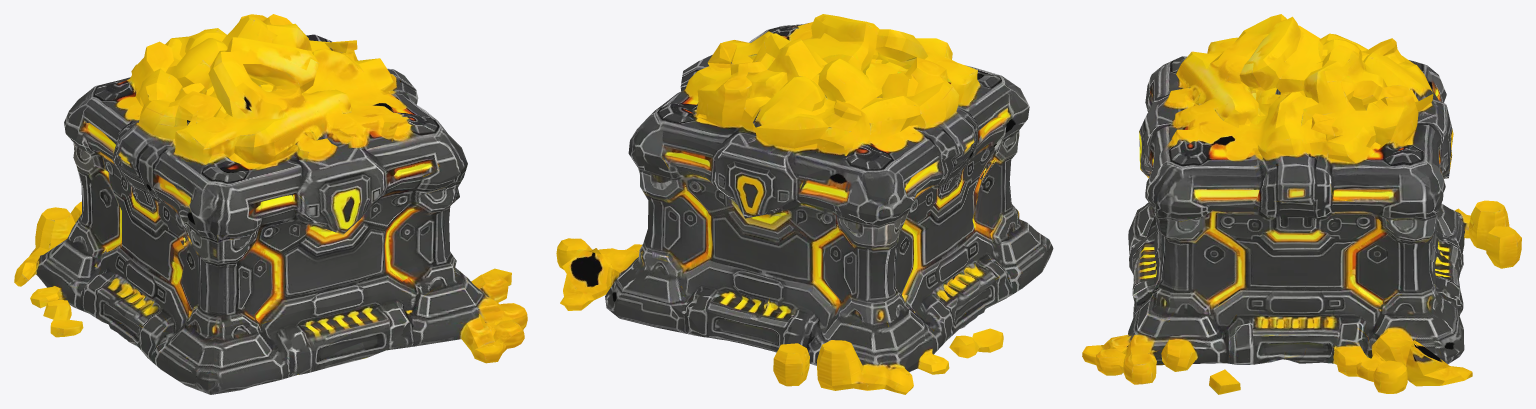
The model's file is gold_storage.glb.
3 views of the same model, side by side, from view 1: azimuth 30°, elevation 25°; view 2: azimuth 150°, elevation 25°; view 3: azimuth 270°, elevation 25° (orthographic). The views are drawn at different scales.
Parts seen in each view (by area): view 1: Mesh0; view 2: Mesh0; view 3: Mesh0.
Boxes of the visible parts, box(x1,y1,x2,y2) form: Mesh0: box(14, 14, 527, 394); Mesh0: box(556, 14, 1053, 394); Mesh0: box(1082, 14, 1521, 394).
Size of the model in its own units: 1.91 by 1.23 by 1.8.
Materials: 1 (1 with a texture image).
